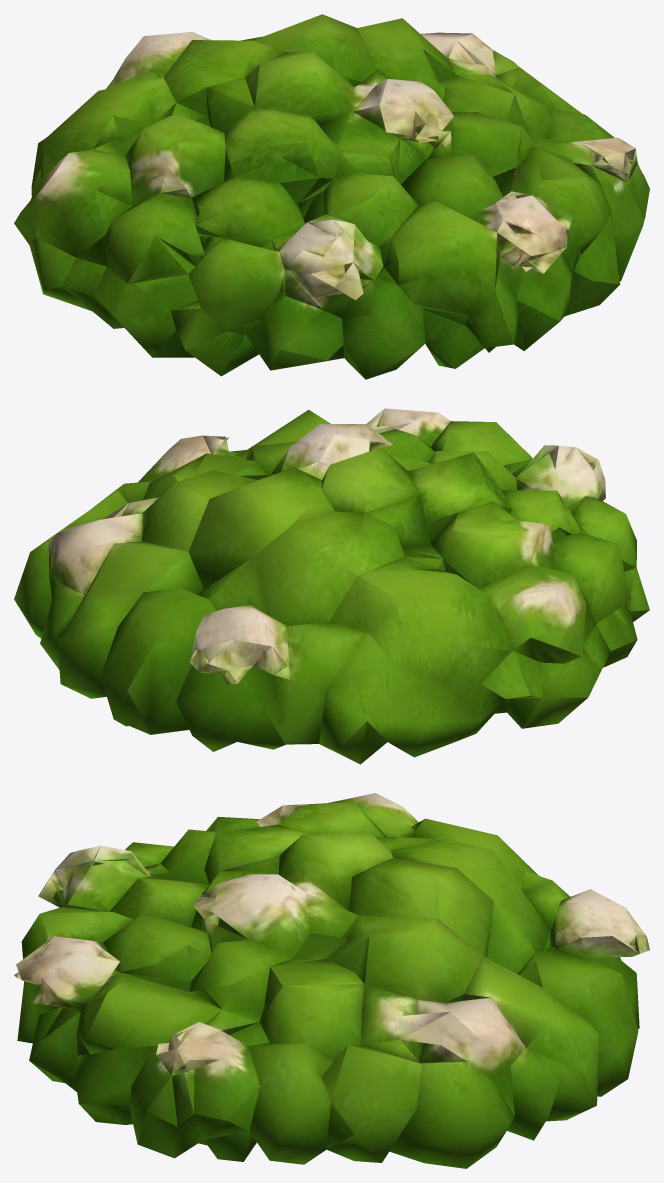
Rendered from parkBush.glb.
3 renders of one model, top to bottom at view 1: azimuth 30°, elevation 25°; view 2: azimuth 150°, elevation 25°; view 3: azimuth 270°, elevation 25°, orthographic. The views are drawn at different scales.
Visible parts, largest first — view 1: model; view 2: model; view 3: model.
Boxes of the visible parts, x1=… form: model: x1=14, y1=14, x2=649, y2=379; model: x1=14, y1=408, x2=649, y2=764; model: x1=14, y1=793, x2=649, y2=1168.
Size of the model in its own units: 1.87 by 0.6774 by 1.88.
1 material, 1 textured.
